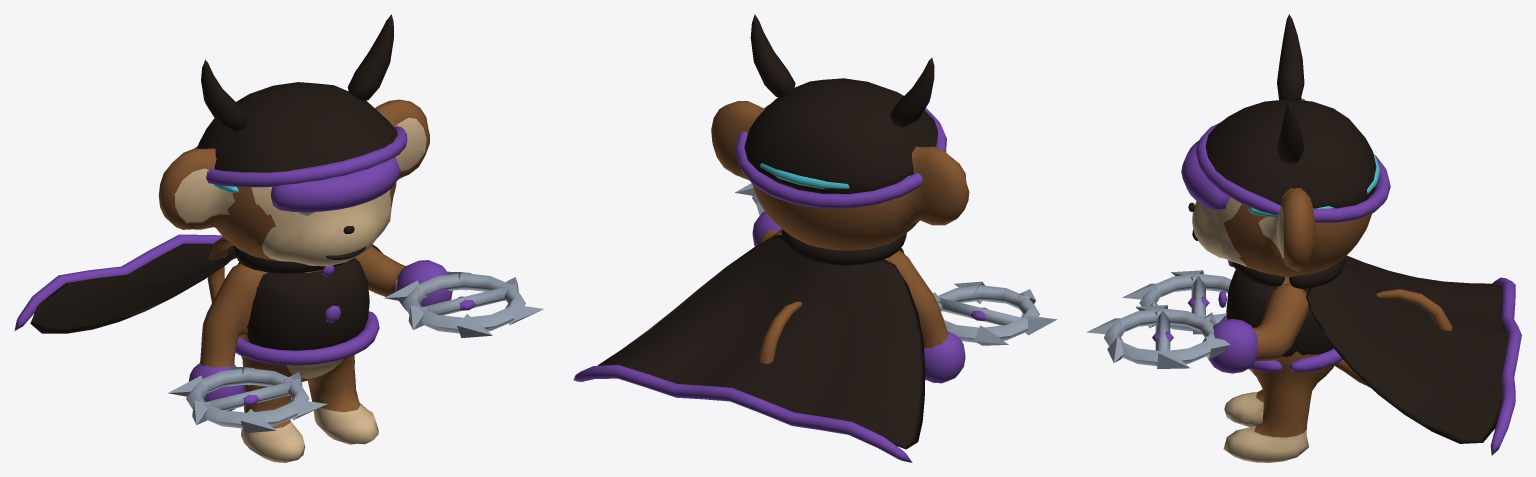
The picture shows the model from 3 angles, left to right: view 1: azimuth 30°, elevation 25°; view 2: azimuth 150°, elevation 25°; view 3: azimuth 270°, elevation 25°; orthographic projection. The views are drawn at different scales.
Parts seen in each view (by area): view 1: super_0_corpo, super_2_cabeca, super_3_braco, super_1_cauda; view 2: super_0_corpo, super_2_cabeca, super_1_cauda, super_3_braco; view 3: super_0_corpo, super_2_cabeca, super_3_braco, super_1_cauda.
Boxes of the visible parts, x1,y1,x2,y2 form: super_0_corpo: (14, 234, 382, 462); super_2_cabeca: (158, 14, 429, 266); super_3_braco: (355, 246, 543, 338); super_1_cauda: (207, 237, 233, 302); super_0_corpo: (573, 229, 1057, 462); super_2_cabeca: (711, 14, 969, 250); super_1_cauda: (758, 301, 801, 363); super_3_braco: (735, 183, 781, 246); super_0_corpo: (1122, 255, 1521, 462); super_2_cabeca: (1181, 14, 1390, 277); super_3_braco: (1086, 283, 1308, 373); super_1_cauda: (1335, 289, 1452, 387).
Bounding box in the file's own units: 1.31 × 1.41 × 1.45.
